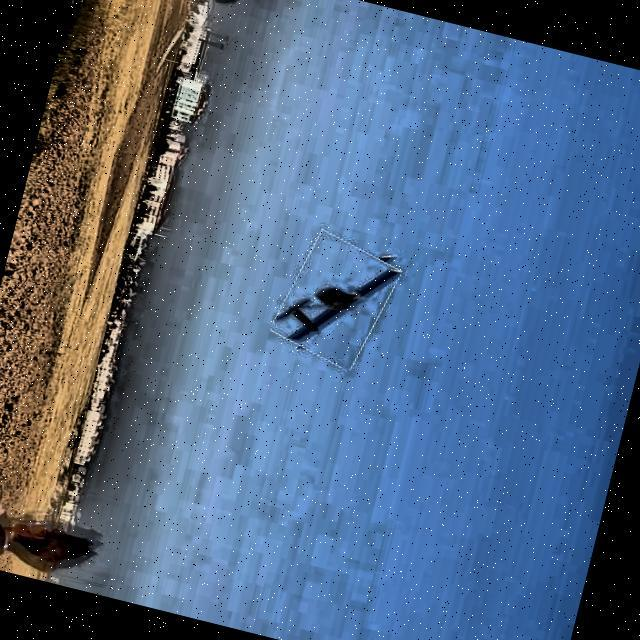iha: (263, 218, 422, 379)
